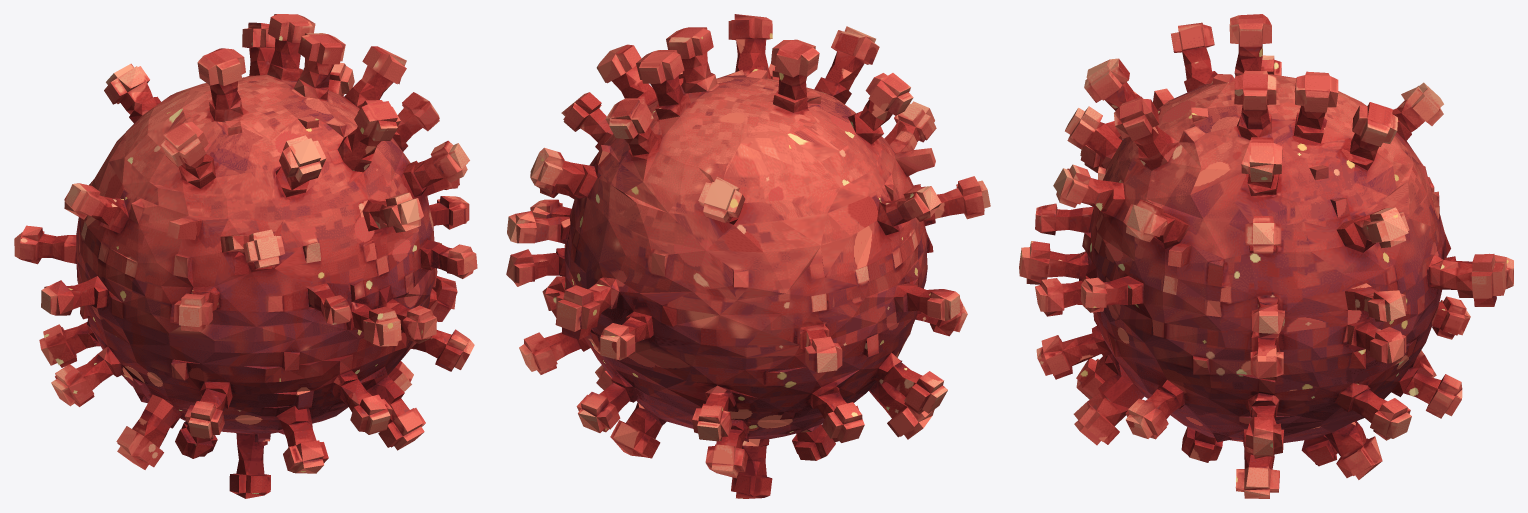
The picture shows the model from 3 angles, left to right: view 1: azimuth 30°, elevation 25°; view 2: azimuth 150°, elevation 25°; view 3: azimuth 270°, elevation 25°; orthographic projection. The views are drawn at different scales.
Visible parts, largest first — view 1: node_0; view 2: node_0; view 3: node_0.
Boxes of the visible parts, x1,y1,x2,y2 form: node_0: (14,14,477,498); node_0: (506,14,990,498); node_0: (1019,14,1513,498).
Bounding box in the file's own units: 1.13 × 1.11 × 1.13.
Materials: 1 (1 with a texture image).
